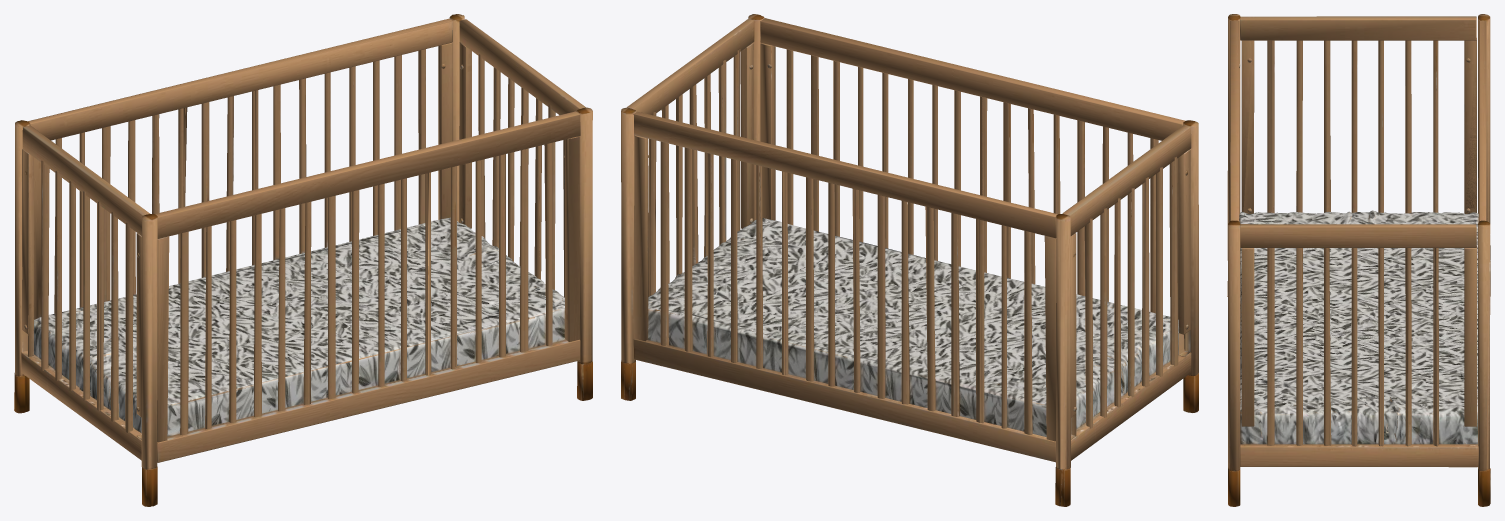
File: crib.min.glb
3 renders of one model, left to right at view 1: azimuth 30°, elevation 25°; view 2: azimuth 150°, elevation 25°; view 3: azimuth 270°, elevation 25°, orthographic. The views are drawn at different scales.
Size of the model in its own units: 0.9478 by 0.5801 by 0.4936.
Materials: 1 (1 with a texture image).
